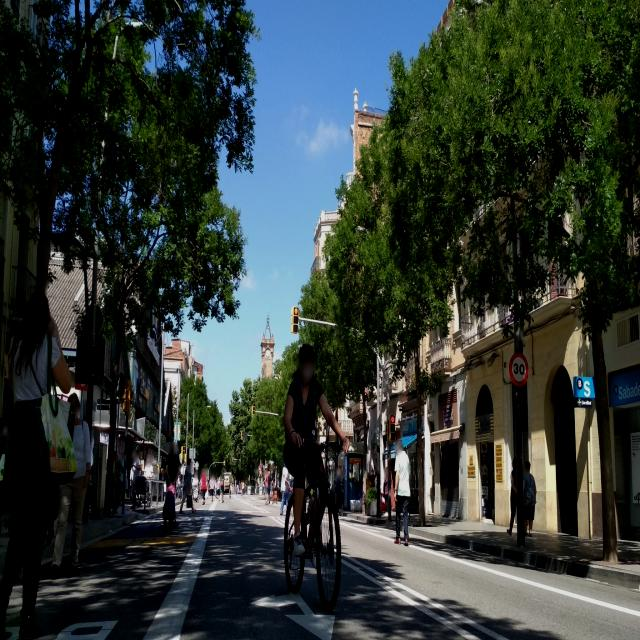bike: (281, 456, 342, 612)
